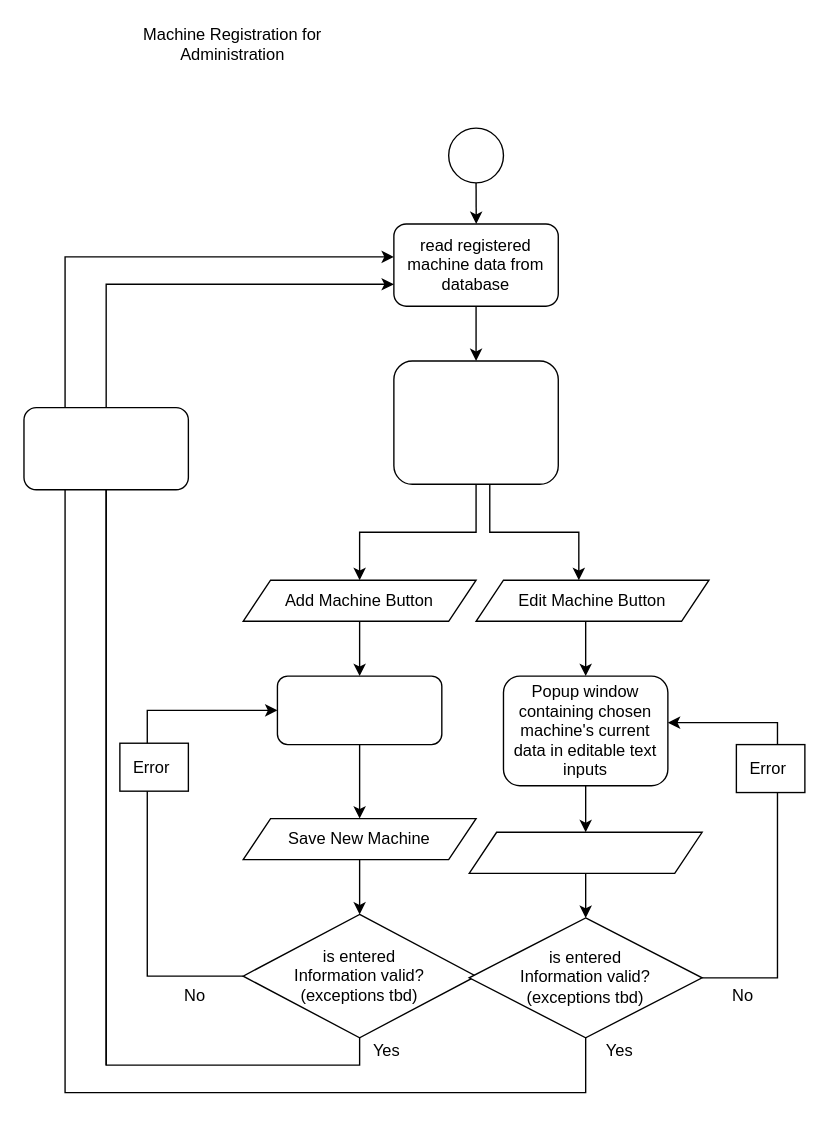
Image size: 829x1128. Some labels were removed from this diagram. Each missing label, with the centre of its shape:
"display table of registered machines" goes at pixel 475 422.
"Popup window containing machine specific data input" goes at pixel 359 710.
"Save Changes" goes at pixel 585 852.
"Start" goes at pixel 475 155.
"update database" goes at pixel 105 448.
